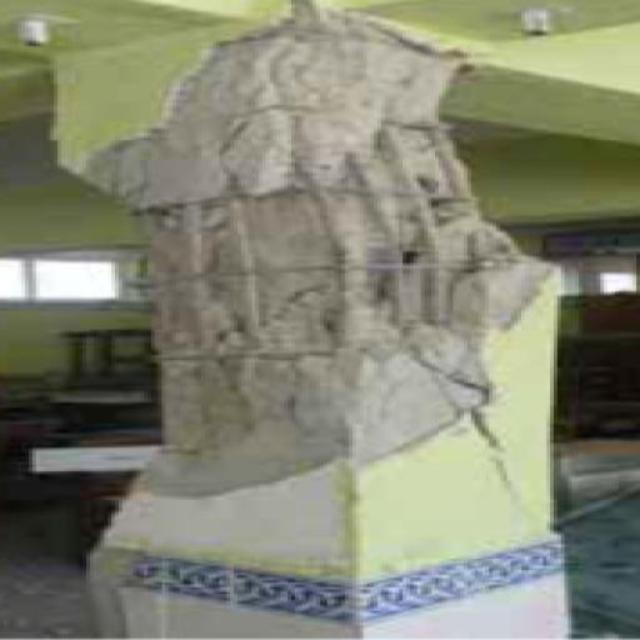D0w0: (94, 10, 553, 494), (126, 554, 353, 619)
